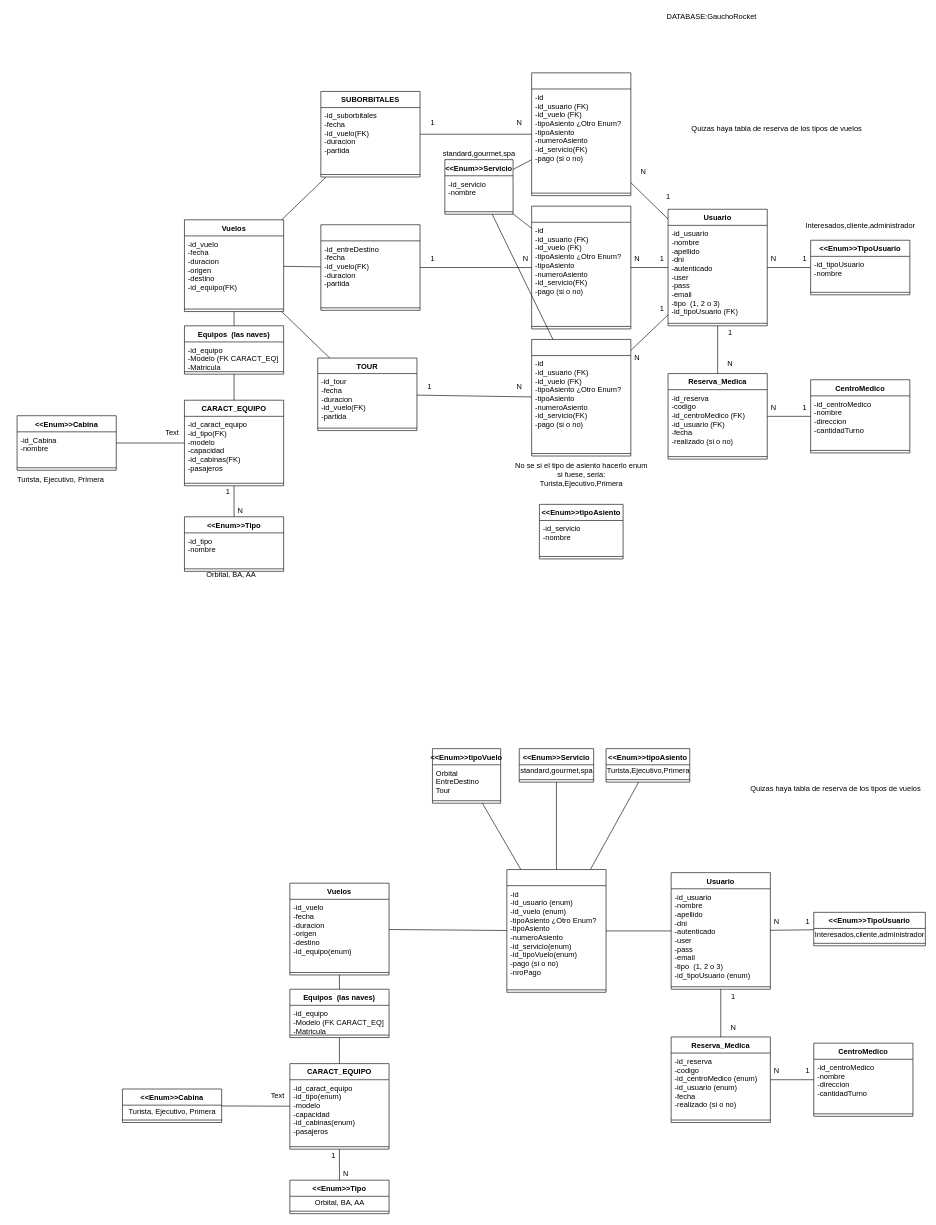
Image size: 936x1225. Some labels were removed from this diagram. Here are the shapes that lost their labels. From the top down, the box of each, then its label:
(531, 72, 631, 196): SubOr_Pagos
(320, 224, 420, 310): ENTRE_DESTINOS
(531, 206, 631, 329): Entre_Des_Pago
(531, 339, 631, 456): Tout_Pago
(506, 869, 606, 992): Reserva
